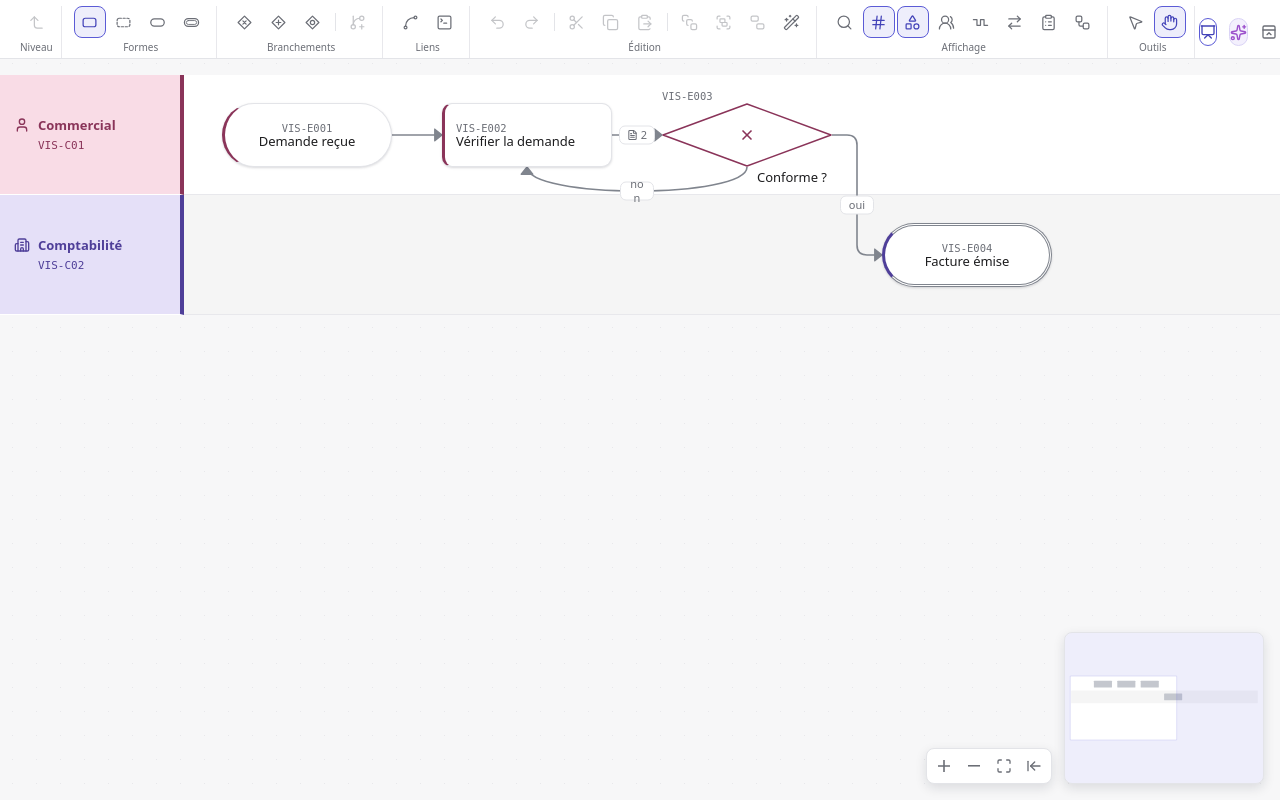
Test: a refusal must have been read before a gesture gives the text up › keeps the field on a second Échap right after a refusal, and closes it once it has been read
The image size is (1280, 800).
Press F5
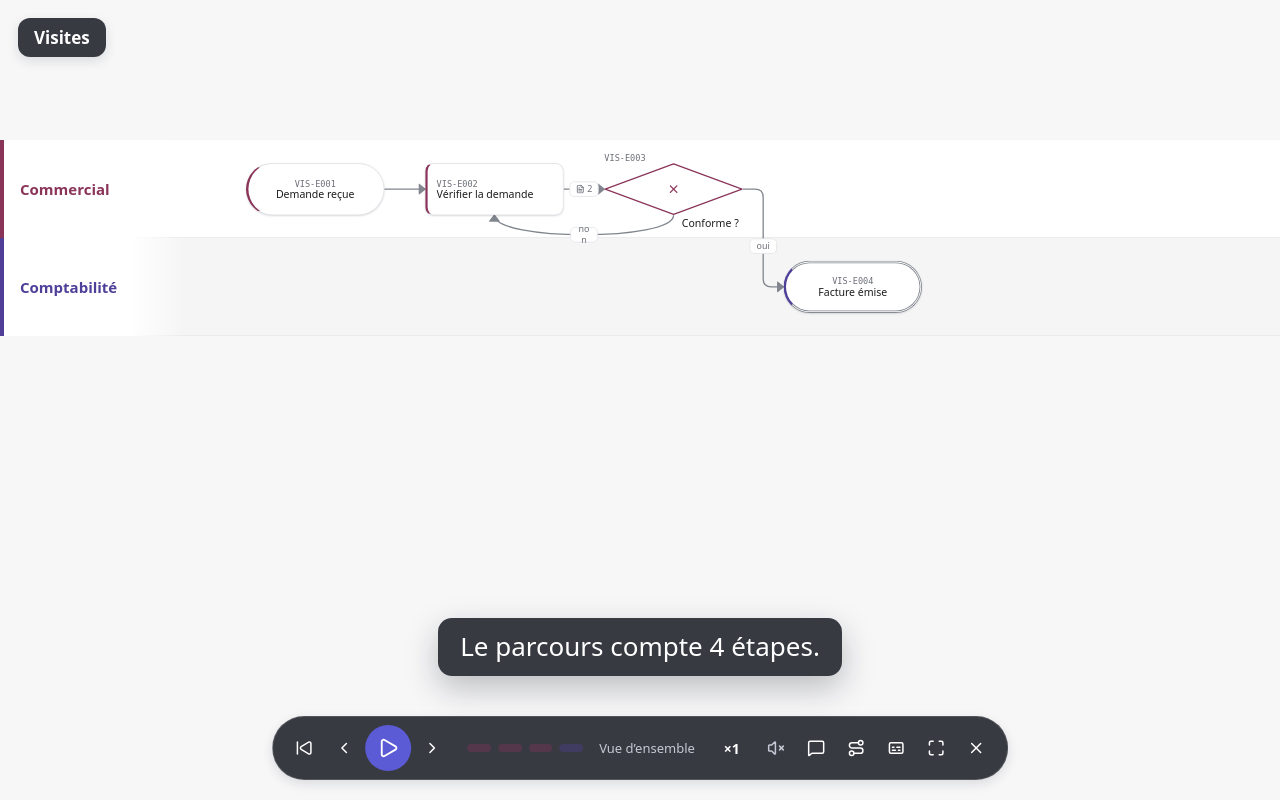
Press ArrowRight
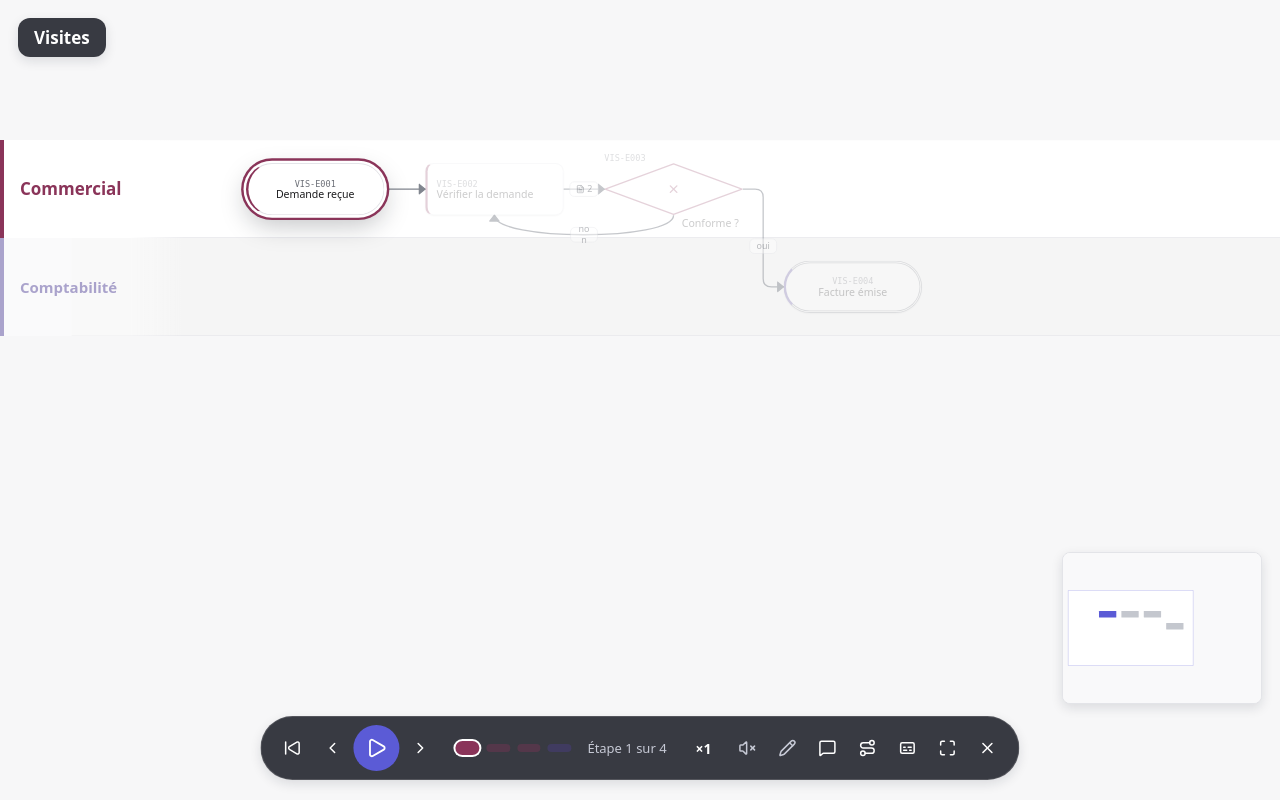
Press ArrowRight
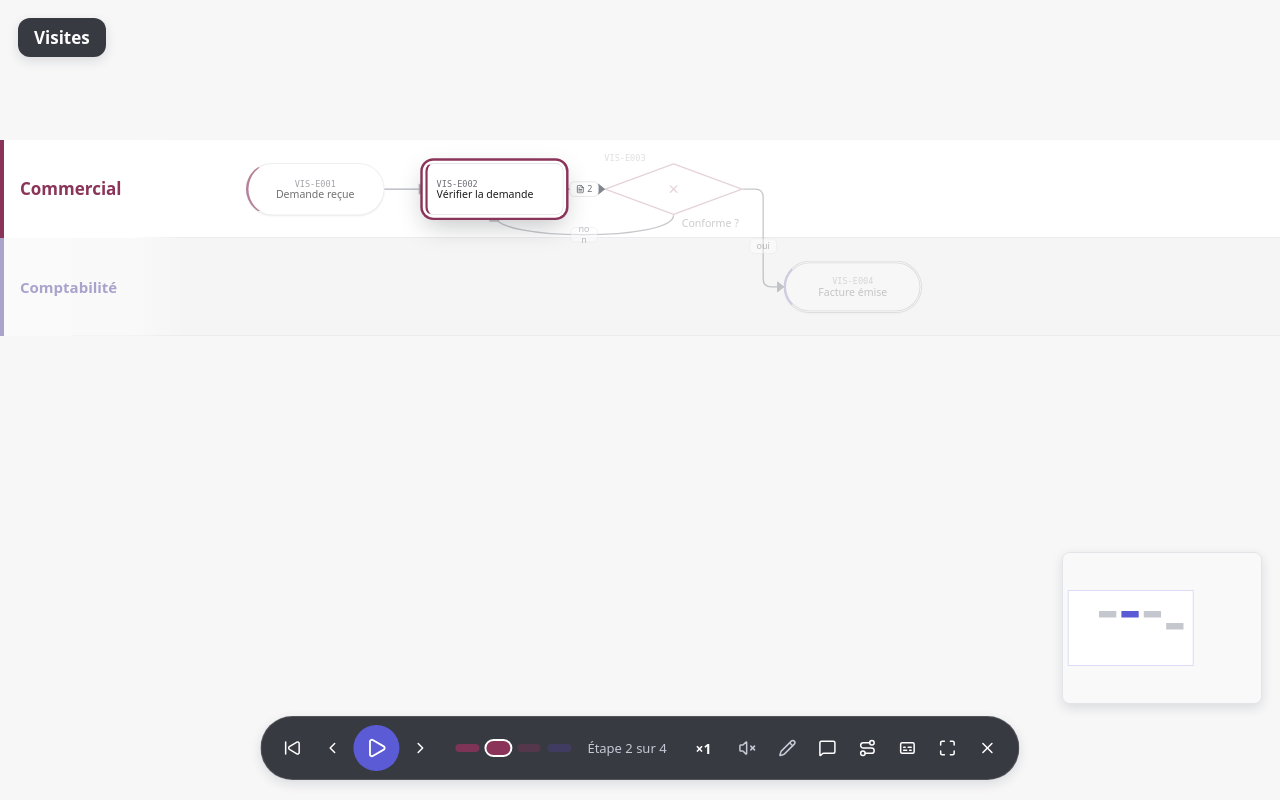
Press t
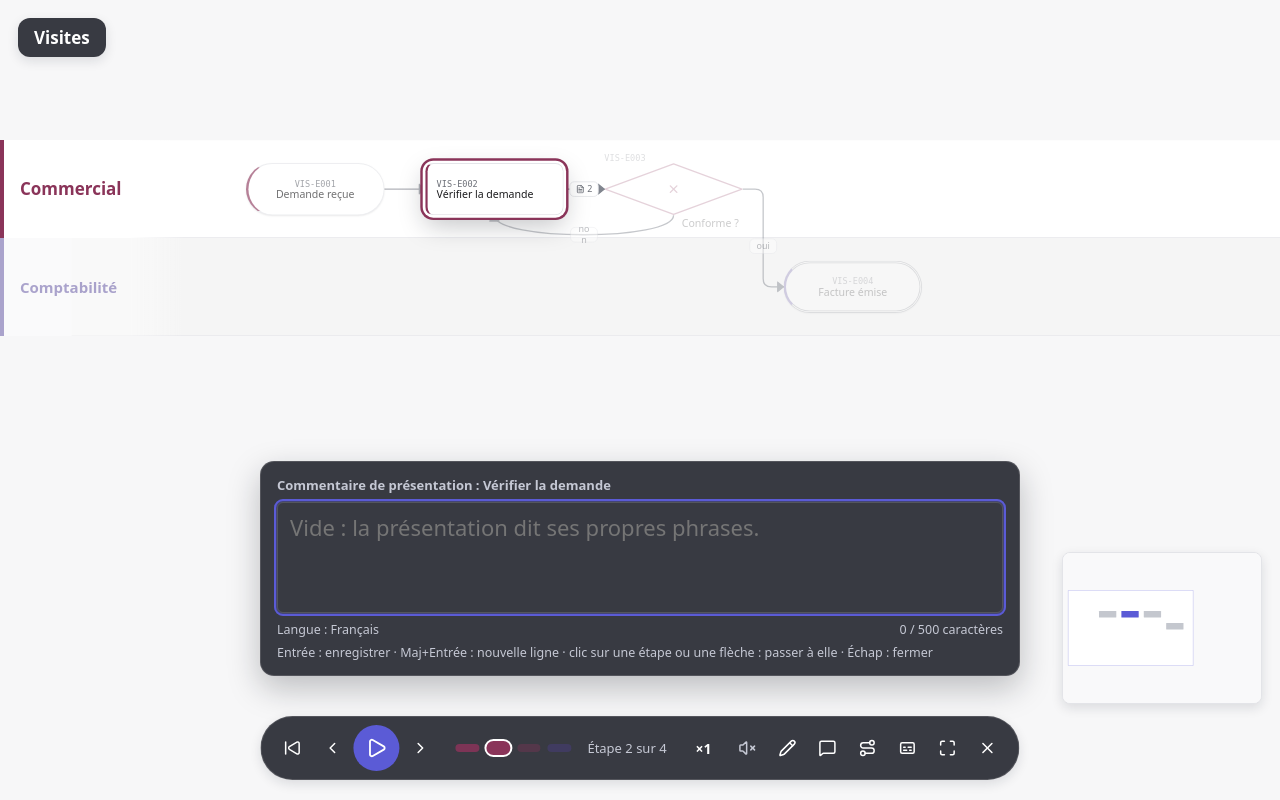
In the text box with test id "presenter-comment-field": [640, 557] box [277,502,1003,613], type "Demande de congés."
Press Enter in the text box with test id "presenter-comment-field", box [277,502,1003,613]
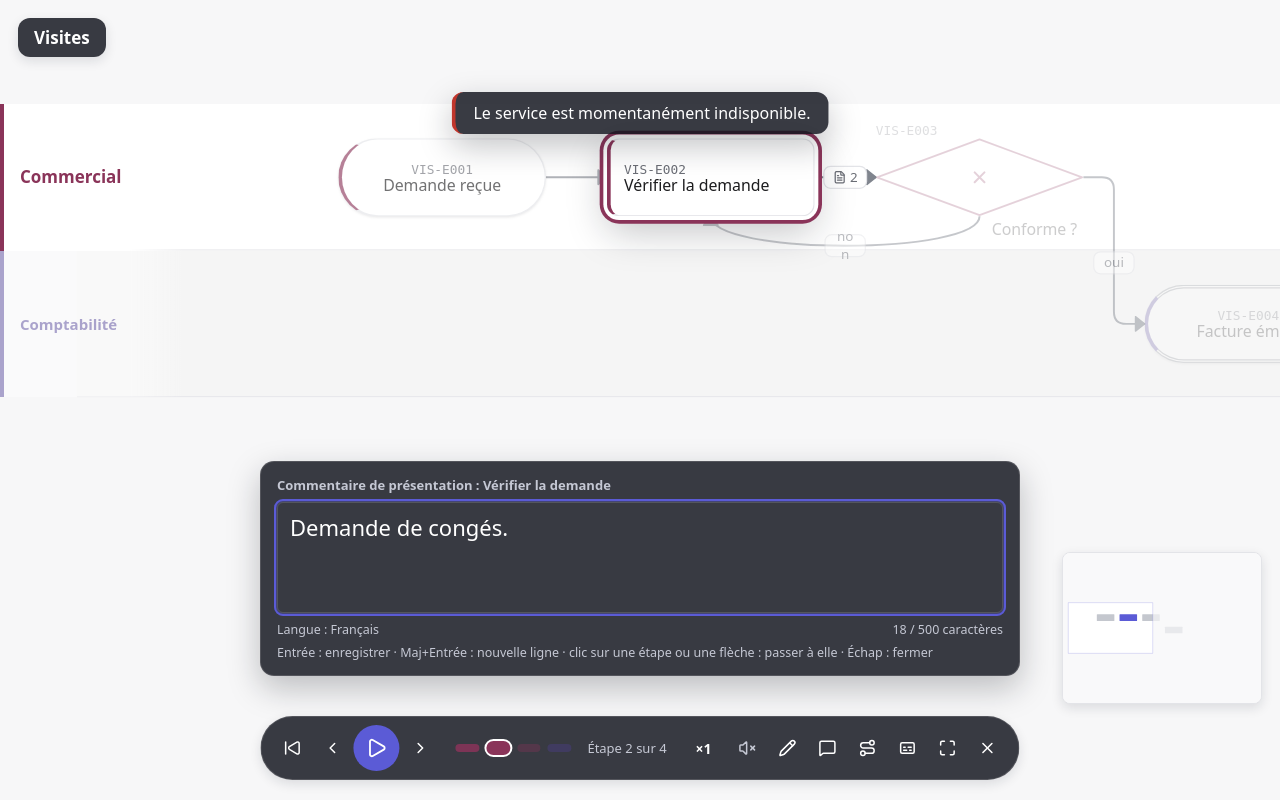
Press Escape in the text box with test id "presenter-comment-field", box [277,502,1003,613]
Press Escape in the text box with test id "presenter-comment-field", box [277,502,1003,613]
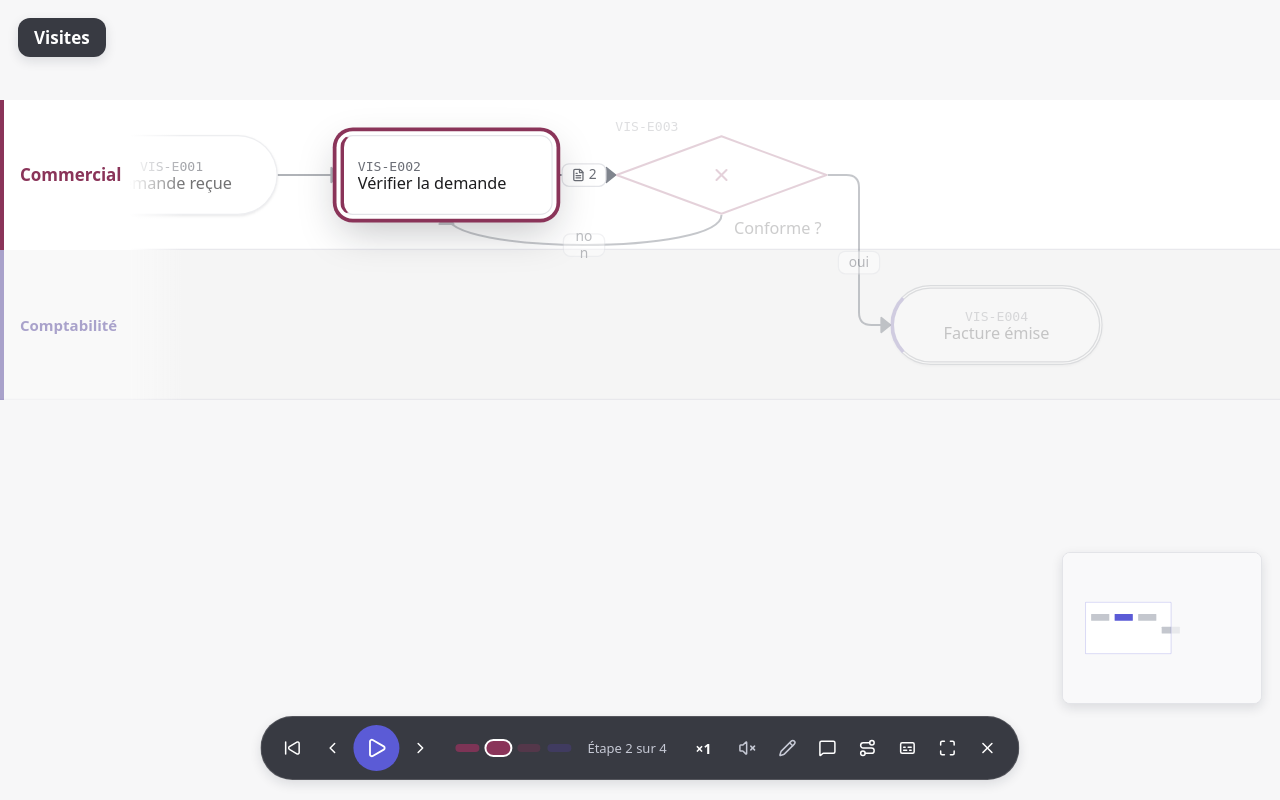
Expected: the element with test id "presenter-comment-editor" is gone
